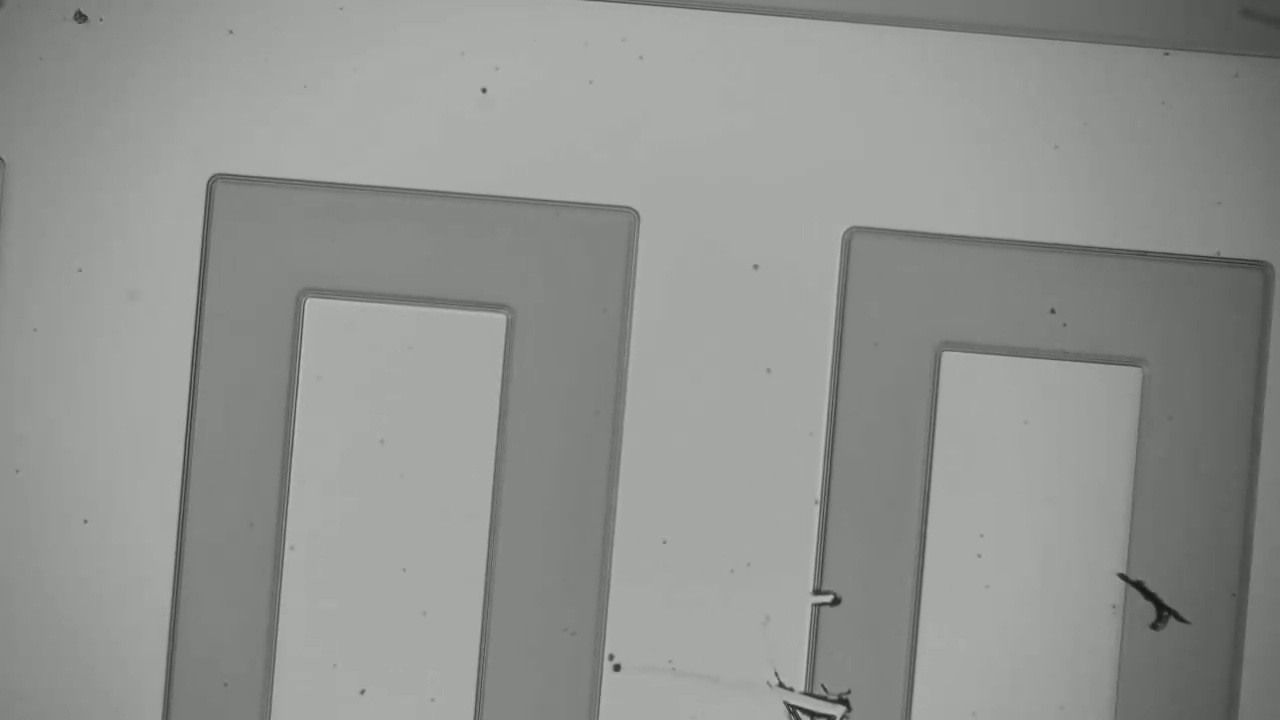Short_circuit: (767, 662, 942, 720)
